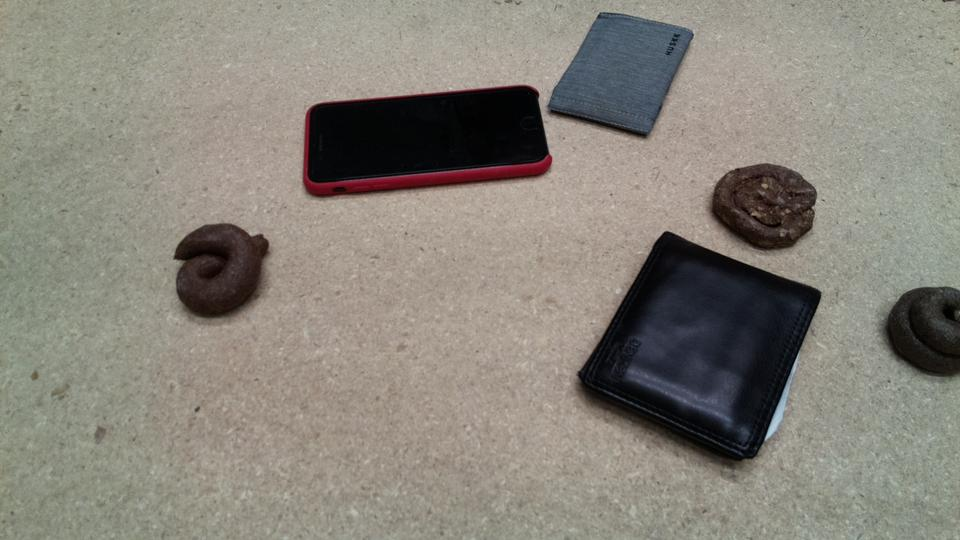poop: (171, 220, 270, 321), (710, 161, 814, 251), (883, 282, 960, 381)
